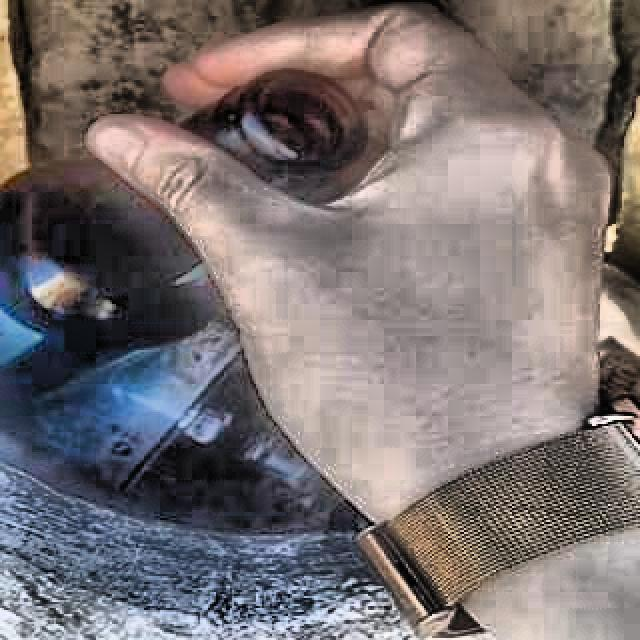glass: (0, 162, 224, 368), (181, 70, 368, 199)
